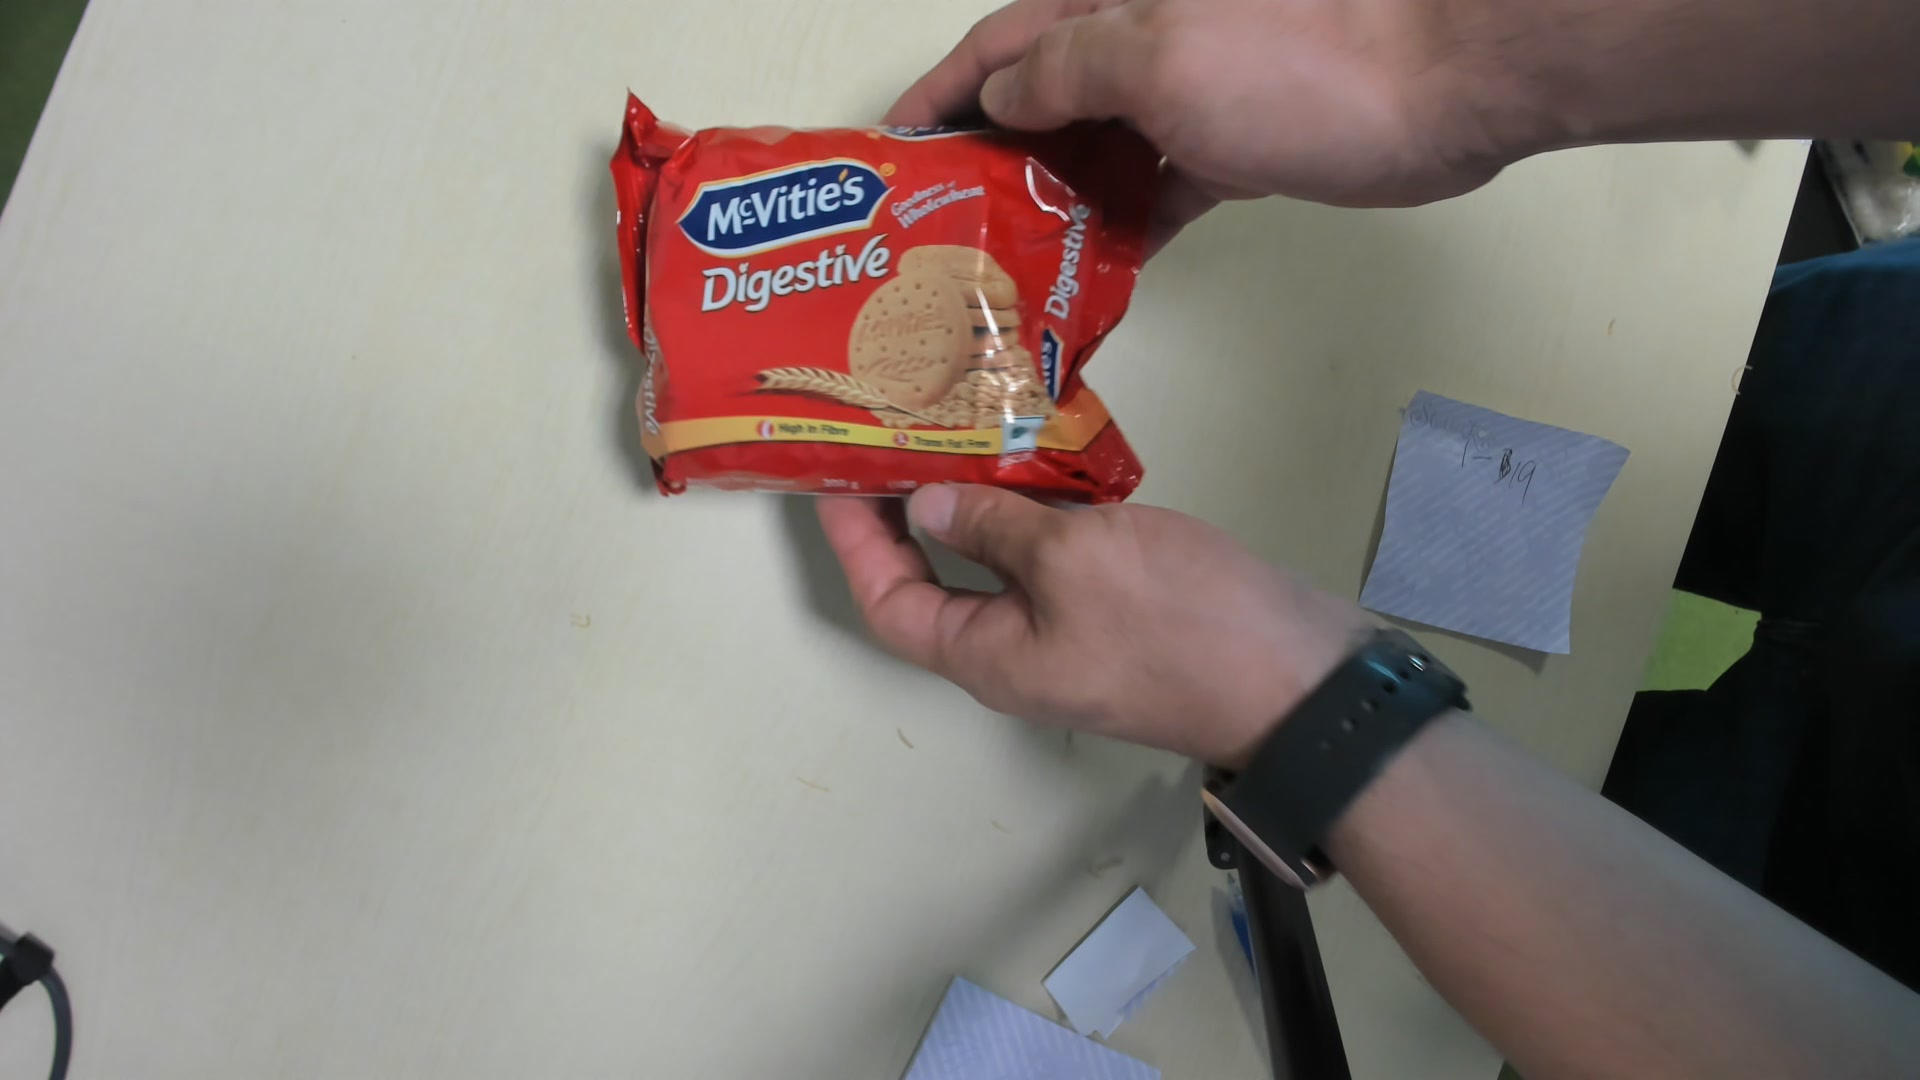BiscuitsCrackersCookies_200-299g_NonHalal_NonHealthy: (621, 119, 1197, 513)
